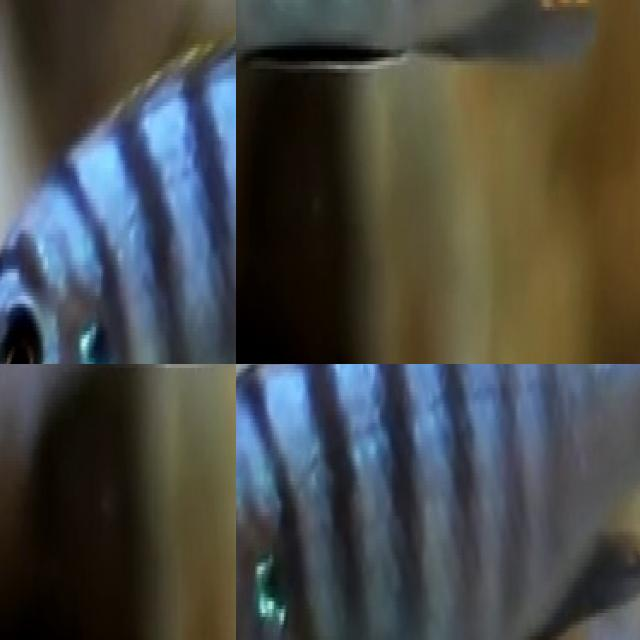fish: (236, 364, 640, 640), (0, 0, 236, 364)
